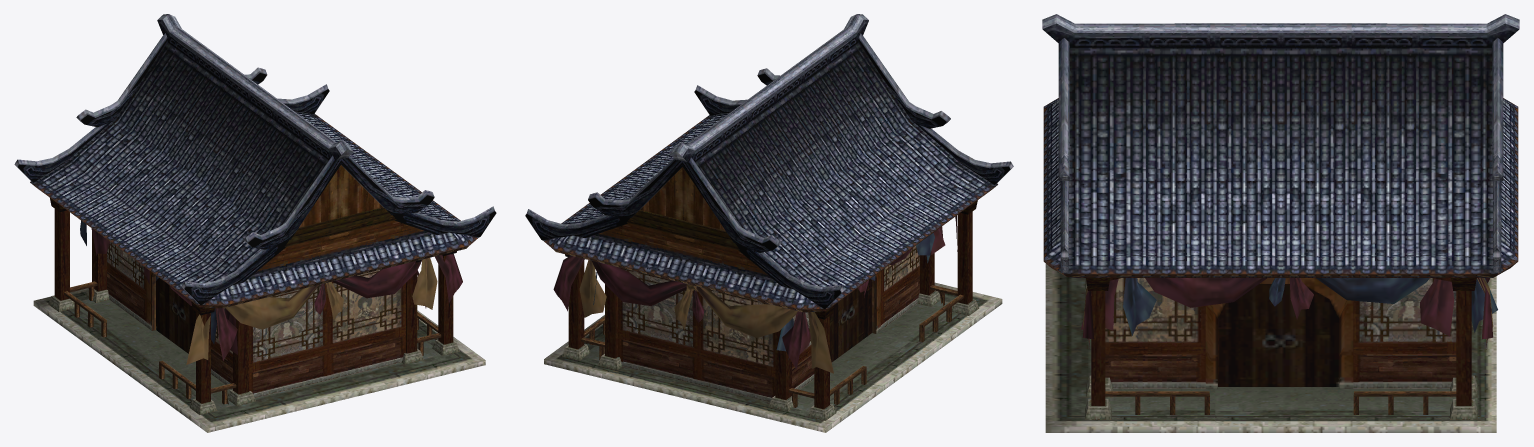
The model's file is b1-032-shamanhouse.glb.
3 views of the same model, side by side, from view 1: azimuth 30°, elevation 25°; view 2: azimuth 150°, elevation 25°; view 3: azimuth 270°, elevation 25° (orthographic). The views are drawn at different scales.
Parts seen in each view (by area): view 1: b1-032-shamanhouse-1, b1-032-shamanhouse-2; view 2: b1-032-shamanhouse-1, b1-032-shamanhouse-2; view 3: b1-032-shamanhouse-1, b1-032-shamanhouse-2.
Part boxes in pixels (box(x1,y1,x2,y2)): b1-032-shamanhouse-1: box(14, 14, 496, 308); b1-032-shamanhouse-2: box(33, 198, 485, 432); b1-032-shamanhouse-1: box(525, 14, 1013, 312); b1-032-shamanhouse-2: box(544, 200, 1002, 432); b1-032-shamanhouse-1: box(1042, 14, 1519, 277); b1-032-shamanhouse-2: box(1045, 263, 1497, 432).
Size of the model in its own units: 9.89 by 7.73 by 10.11.
Materials: 2 (2 with a texture image).
